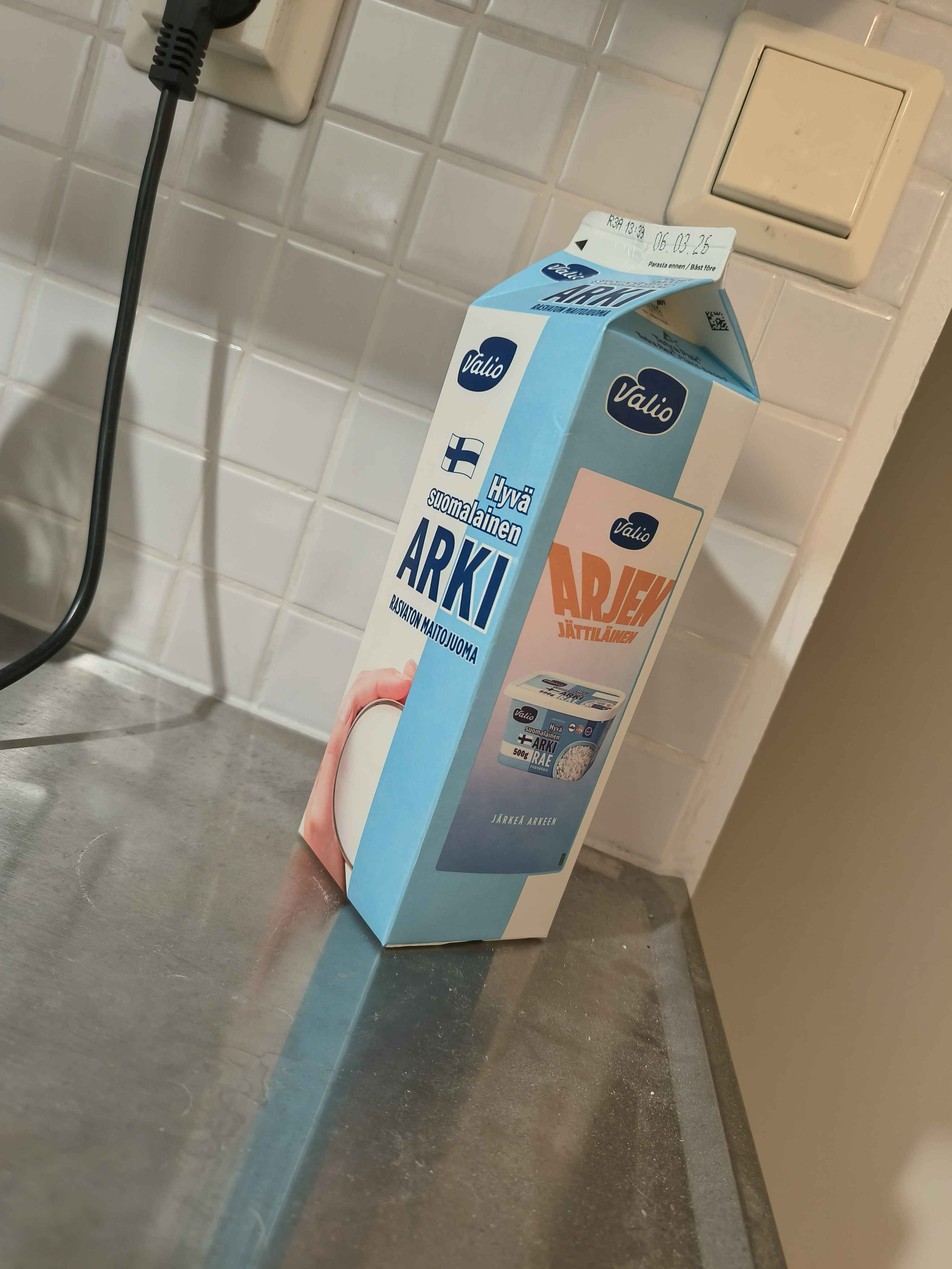Dryckeskartong: (296, 211, 759, 946)
